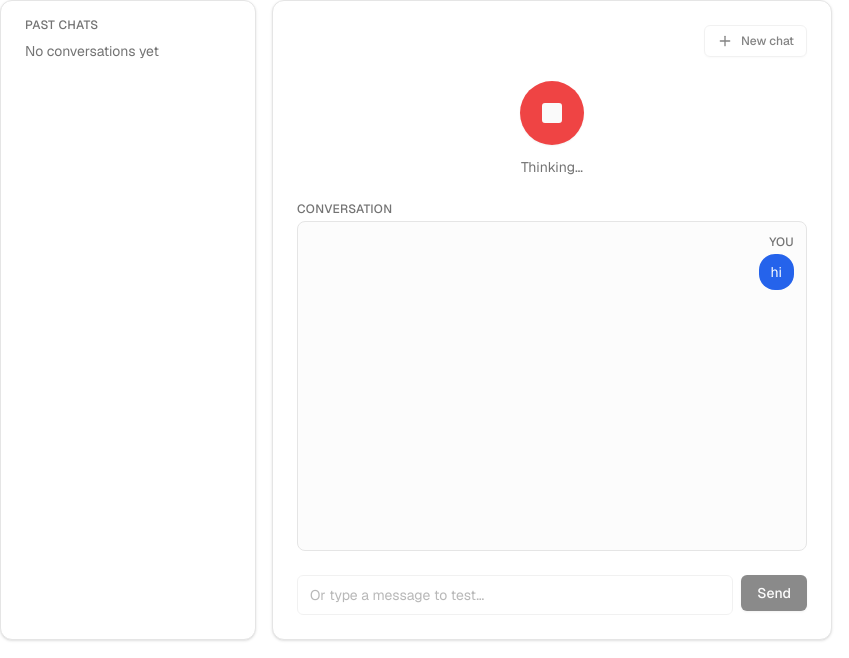
it: stop thinking › aborts the in-flight request and returns the mic to idle
Expected: the text "tap to speak" is shown, [521, 157, 583, 177]
Click the button named "stop".
click(552, 113)  # box [520, 81, 584, 145]
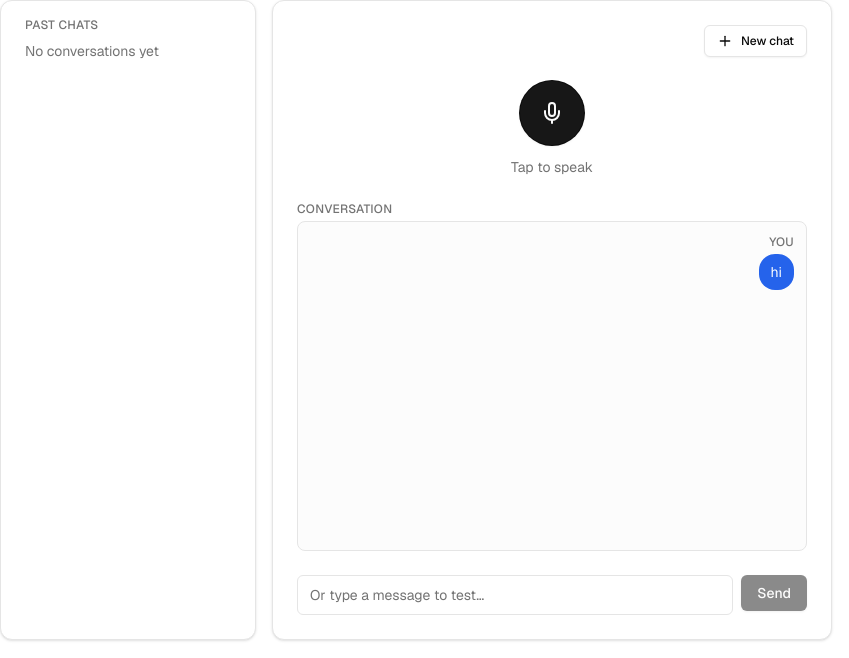
Result: the text "Tap to speak" is shown at [511, 157, 593, 177]
